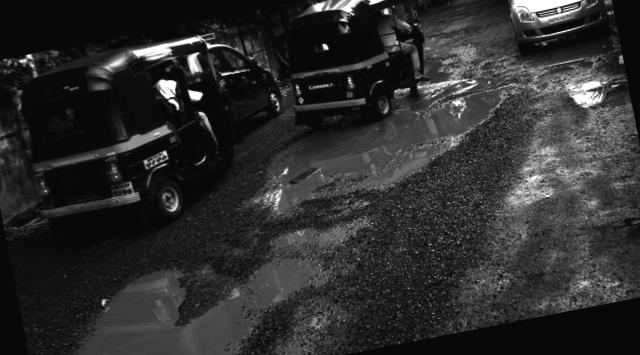Pothole: (256, 63, 510, 211), (21, 242, 334, 355), (523, 47, 632, 129), (434, 13, 500, 45)
